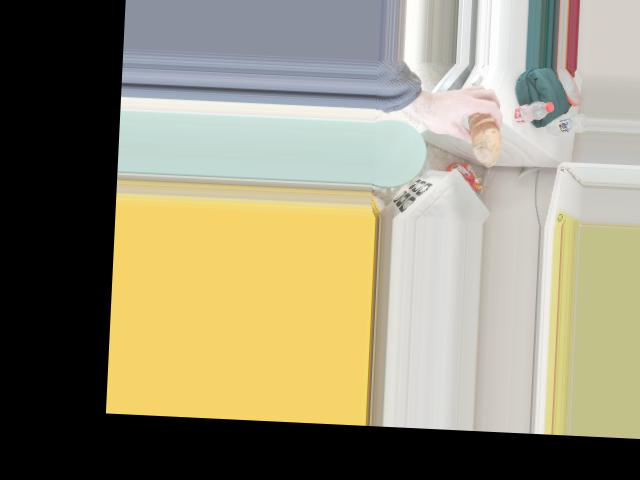sweet_potato: (458, 106, 505, 153)
